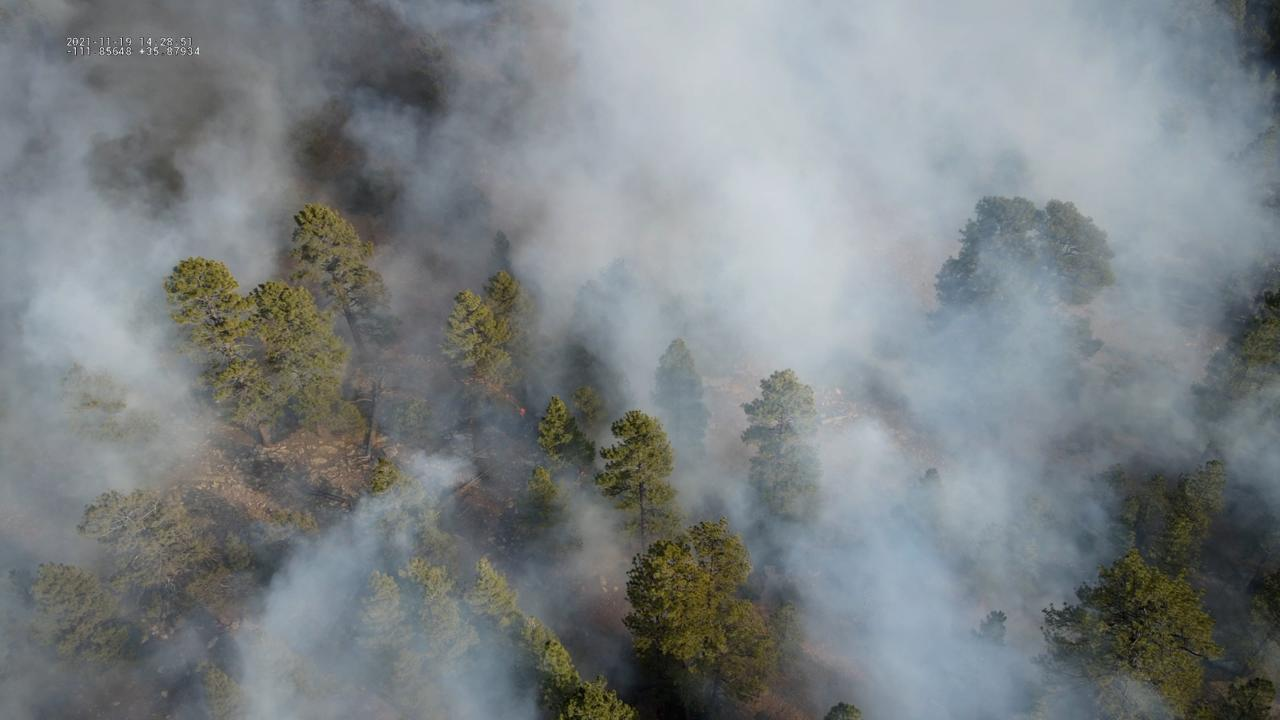fire: (518, 408, 527, 418)
smoke: (0, 0, 1280, 720)
